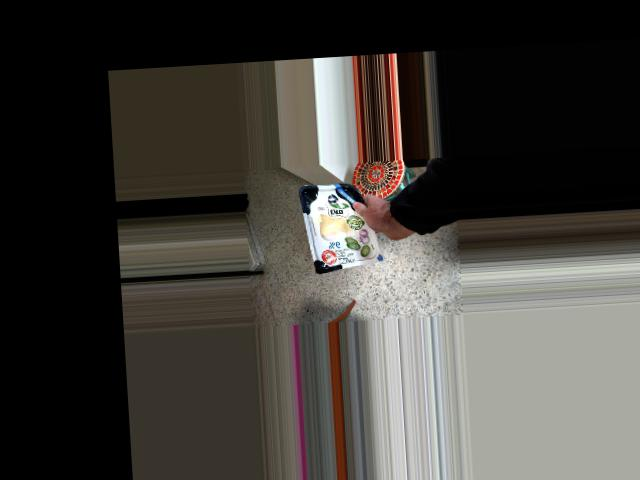cheese: (322, 196, 396, 270)
